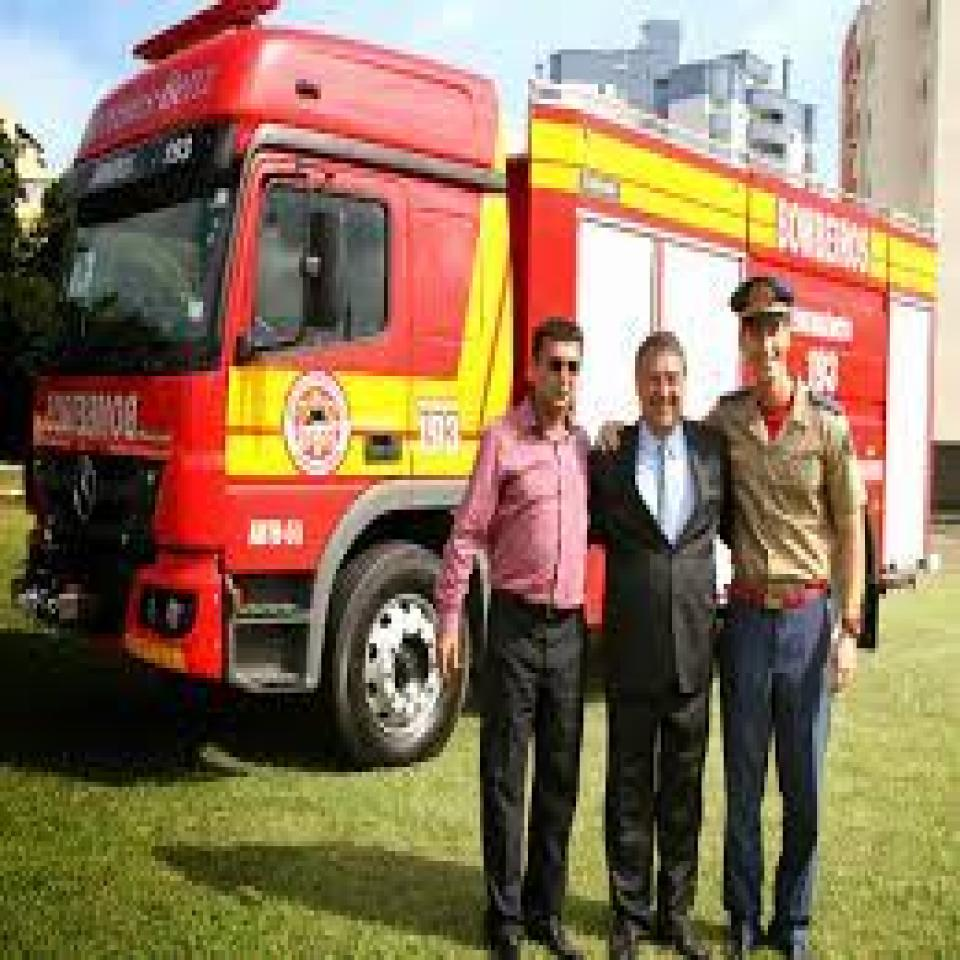viatura: (9, 0, 442, 784)
